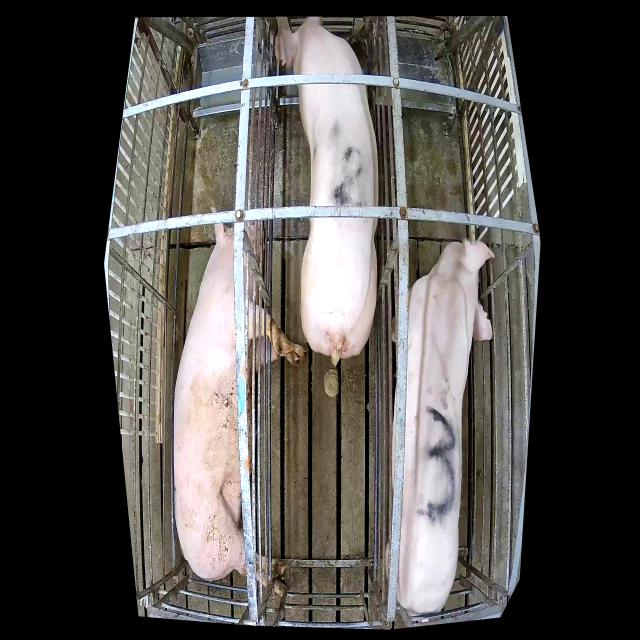pig: (174, 207, 308, 601), (385, 240, 494, 614), (276, 18, 378, 367)
